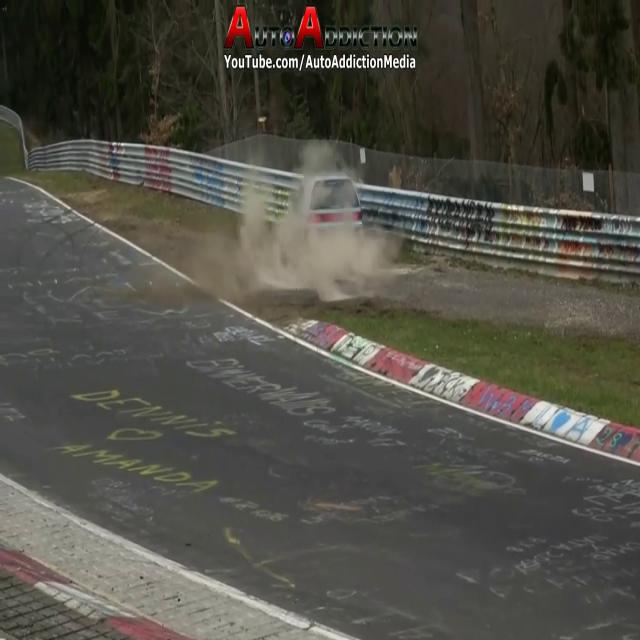accident: (226, 150, 446, 281)
